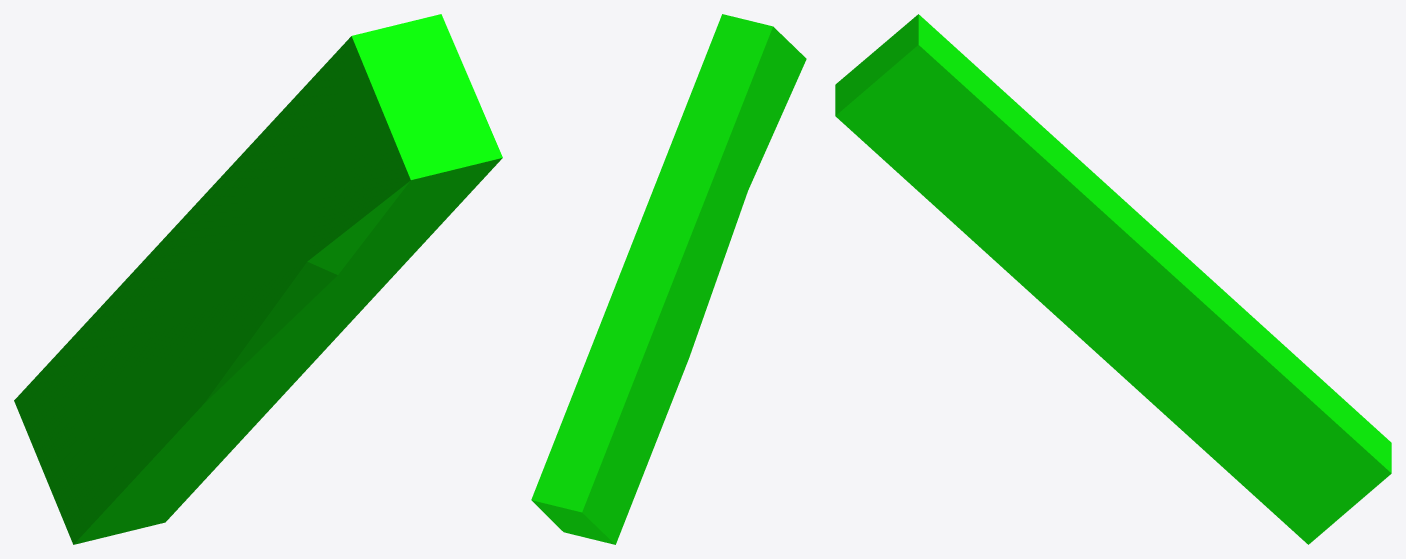
File: SM_Roof_Regular_Truss_Wood_Diagonal_1m.fbx
3 views of the same model, side by side, from view 1: azimuth 30°, elevation 25°; view 2: azimuth 150°, elevation 25°; view 3: azimuth 270°, elevation 25° (orthographic). The views are drawn at different scales.
Visible parts, largest first — view 1: roof-regular-truss-wood-diagonal-1m; view 2: roof-regular-truss-wood-diagonal-1m; view 3: roof-regular-truss-wood-diagonal-1m.
Part boxes in pixels (x1,y1,x2,y2): roof-regular-truss-wood-diagonal-1m: (14, 14, 502, 544); roof-regular-truss-wood-diagonal-1m: (531, 14, 806, 544); roof-regular-truss-wood-diagonal-1m: (835, 14, 1391, 544).
Bounding box in the file's own units: 0.1575 × 1.16 × 1.18.
